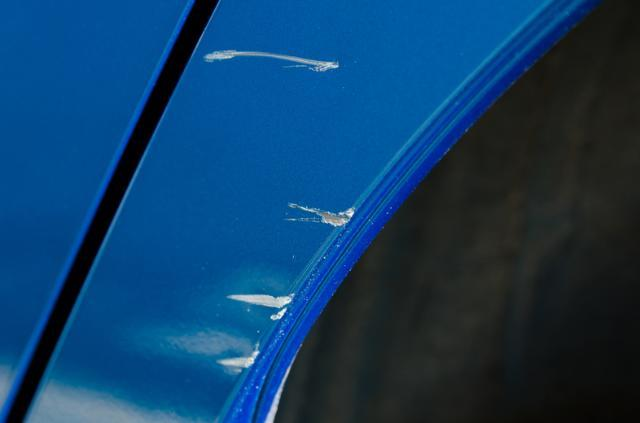Fender: (171, 18, 395, 389)
